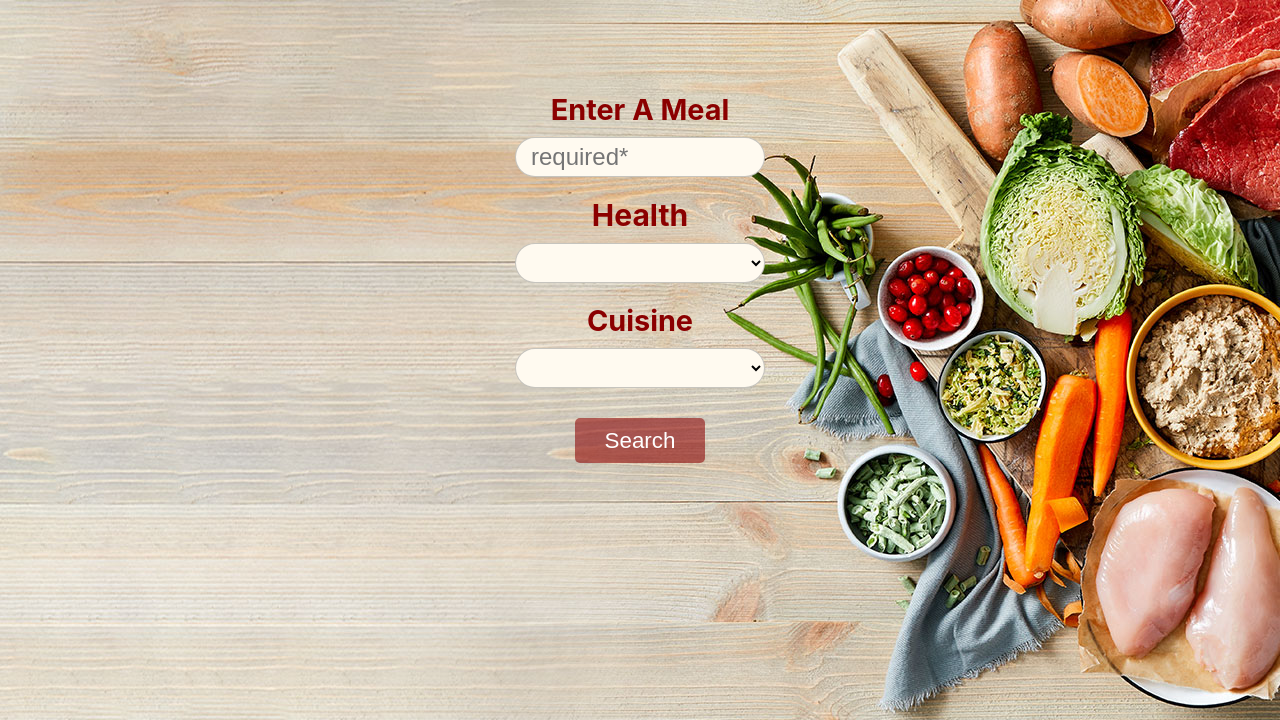
Scenario: <Form /> validation › Meal with special characters
Type "meat-" into the field with id "meal" at point(640, 157), box [515,137,765,177]
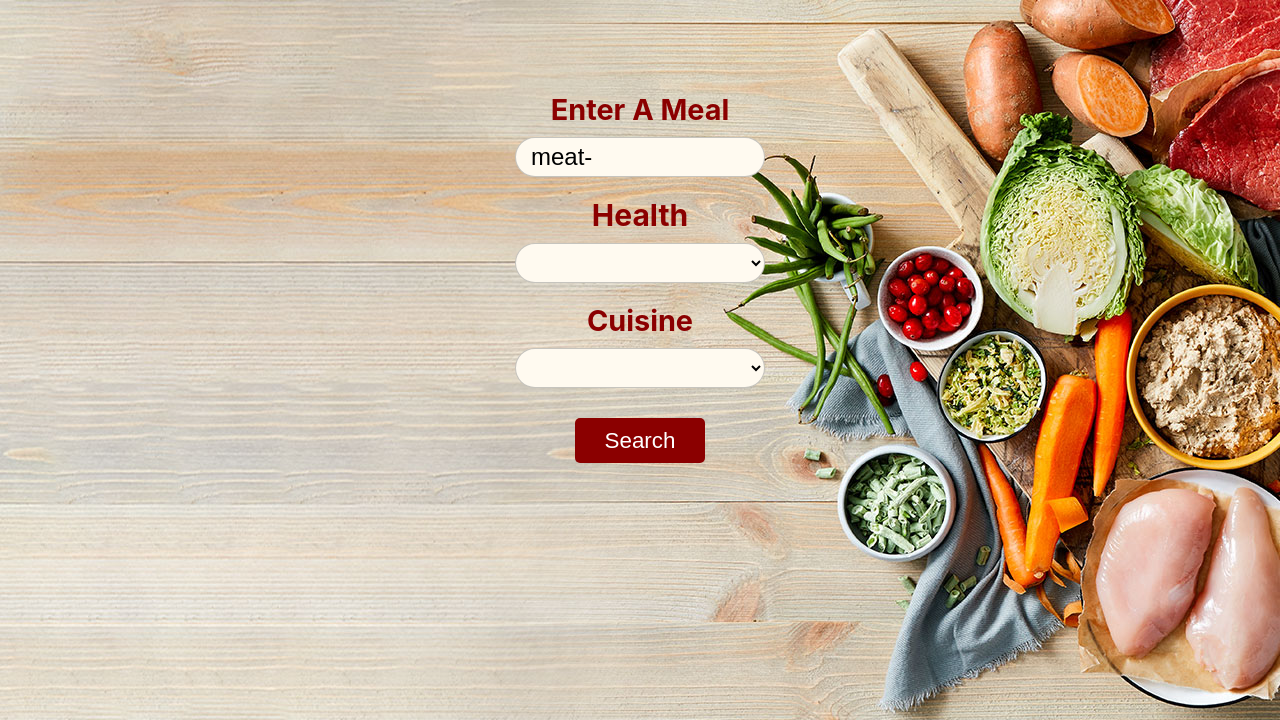
Click the button "search" at point(640, 441), box [575,418,705,463]
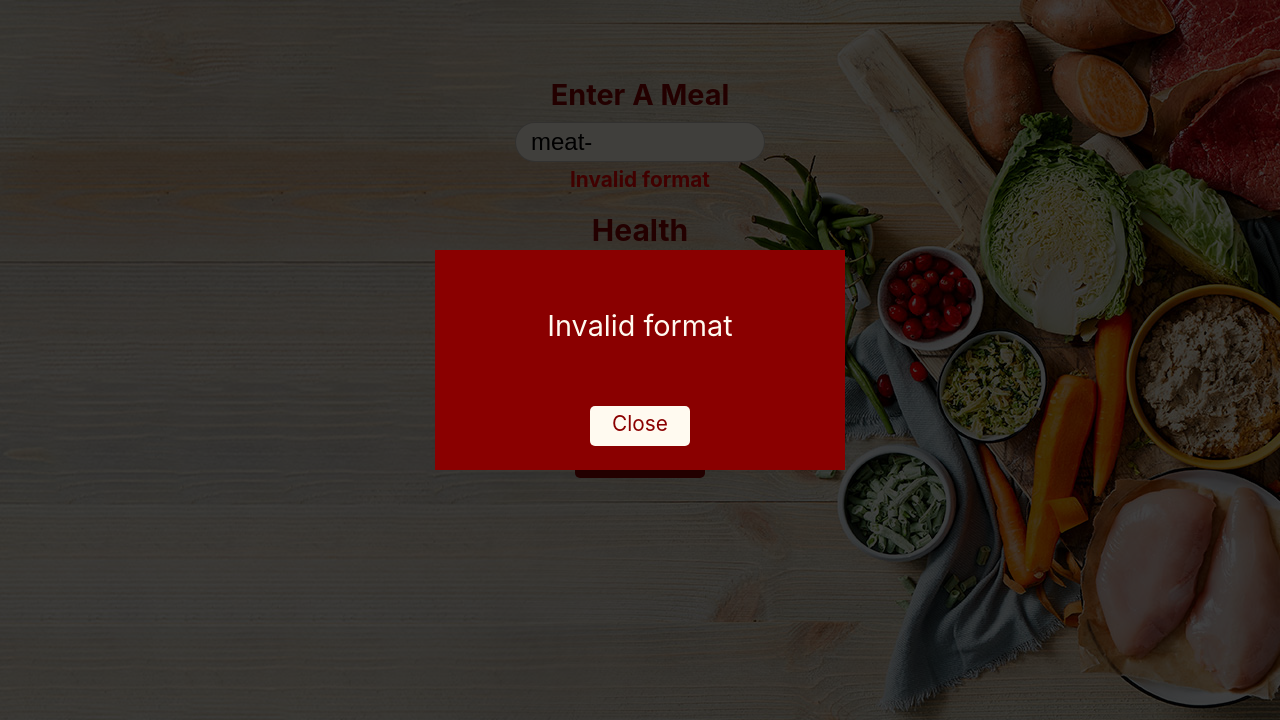
Expected: the message "Invalid format" is shown, [570,167,710,192]
Expected: the text with class "alert__message" reads "Invalid format", [547,308,733,343]
